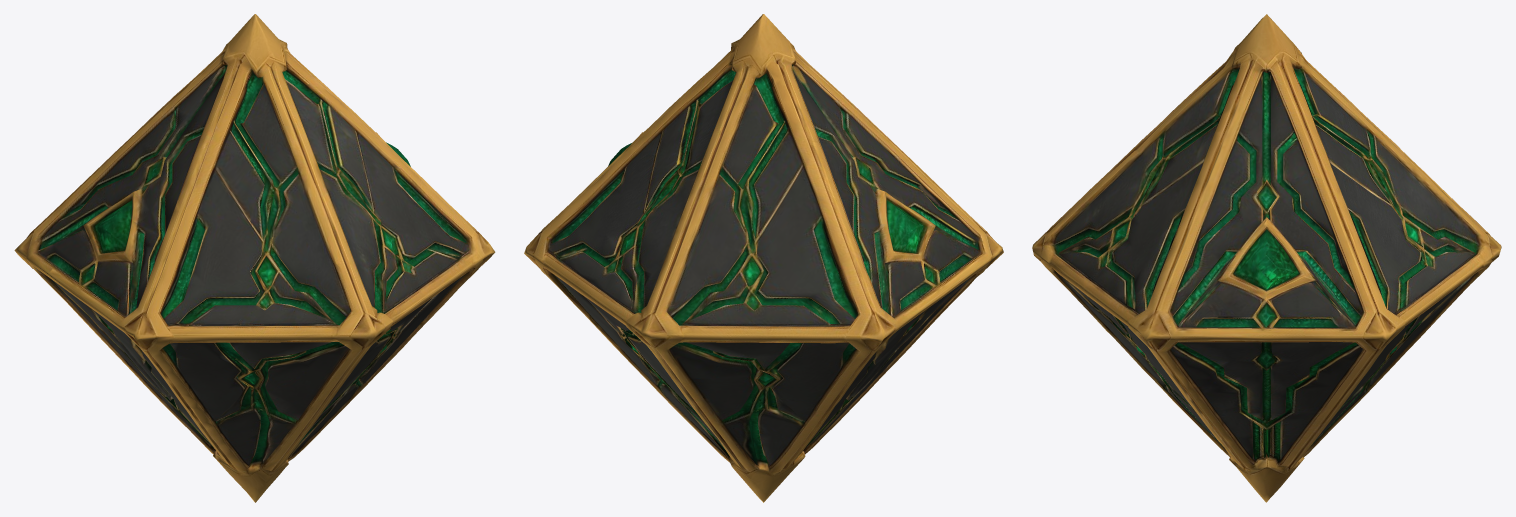
The model's file is relic_03_silicon_neural_core-D5iJMk67.glb.
The picture shows the model from 3 angles, left to right: view 1: azimuth 30°, elevation 25°; view 2: azimuth 150°, elevation 25°; view 3: azimuth 270°, elevation 25°; orthographic projection.
Bounding box in the file's own units: 0.7742 × 1 × 0.8705.
Materials: 1 (1 with a texture image).
